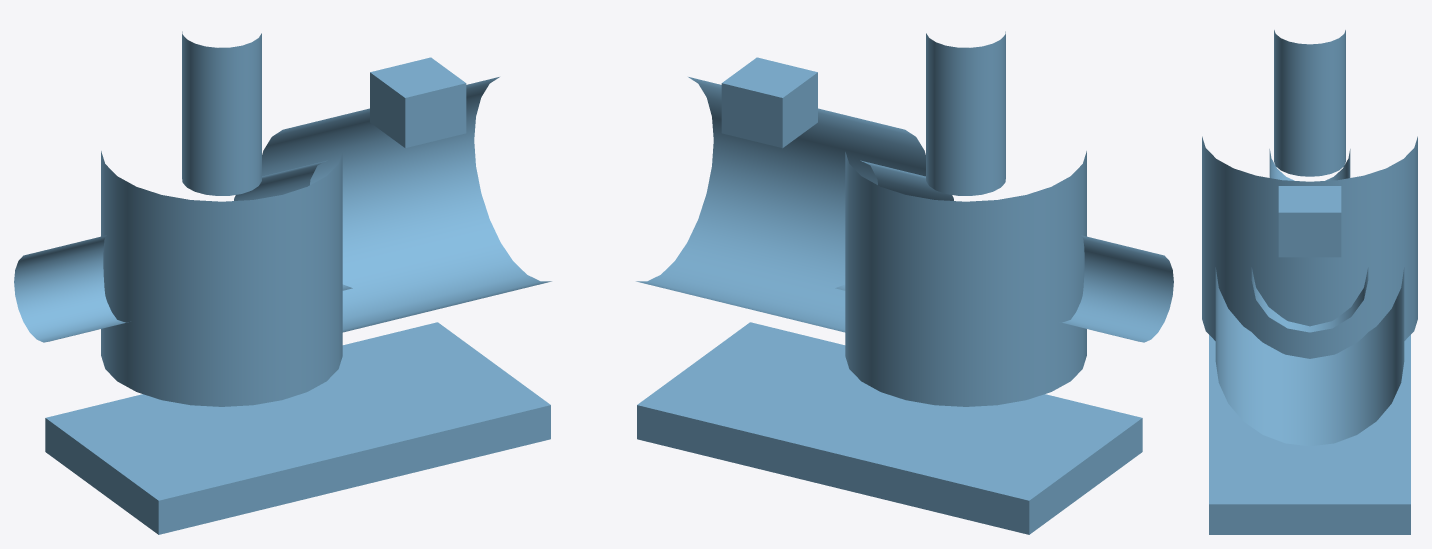
Rendered from compressor.glb.
3 renders of one model, left to right at view 1: azimuth 30°, elevation 25°; view 2: azimuth 150°, elevation 25°; view 3: azimuth 270°, elevation 25°, orthographic. The views are drawn at different scales.
Parts seen in each view (by area): view 1: Industrial_Pump; view 2: Industrial_Pump; view 3: Industrial_Pump.
Part boxes in pixels (box(x1,y1,x2,y2)): Industrial_Pump: box(14, 31, 551, 534); Industrial_Pump: box(636, 31, 1173, 534); Industrial_Pump: box(1202, 30, 1417, 534).
Size of the model in its own units: 2.25 by 1.9 by 0.96.
